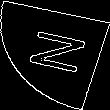N_E: (19, 29, 91, 81)
